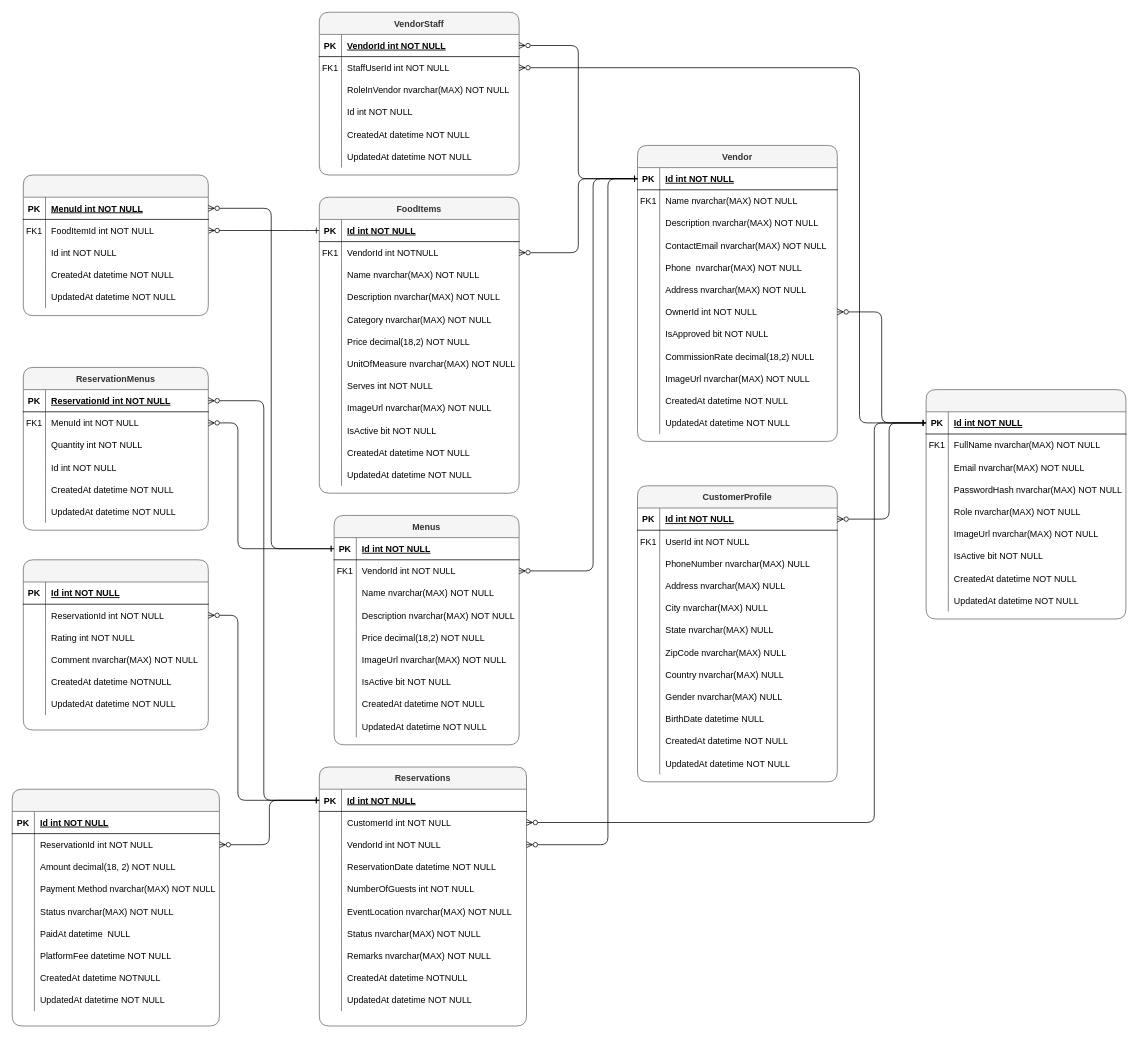
This 1138x1038 diagram has some shape labels left out. The shapes that lost their labels are listed below. From the top down, each one's box as (x1, y1, x2, y2) in pixels, then its label:
(23, 174, 208, 316): MenuFoodItems
(925, 389, 1126, 619): Users
(23, 559, 208, 730): Review
(11, 788, 219, 1026): Payments
